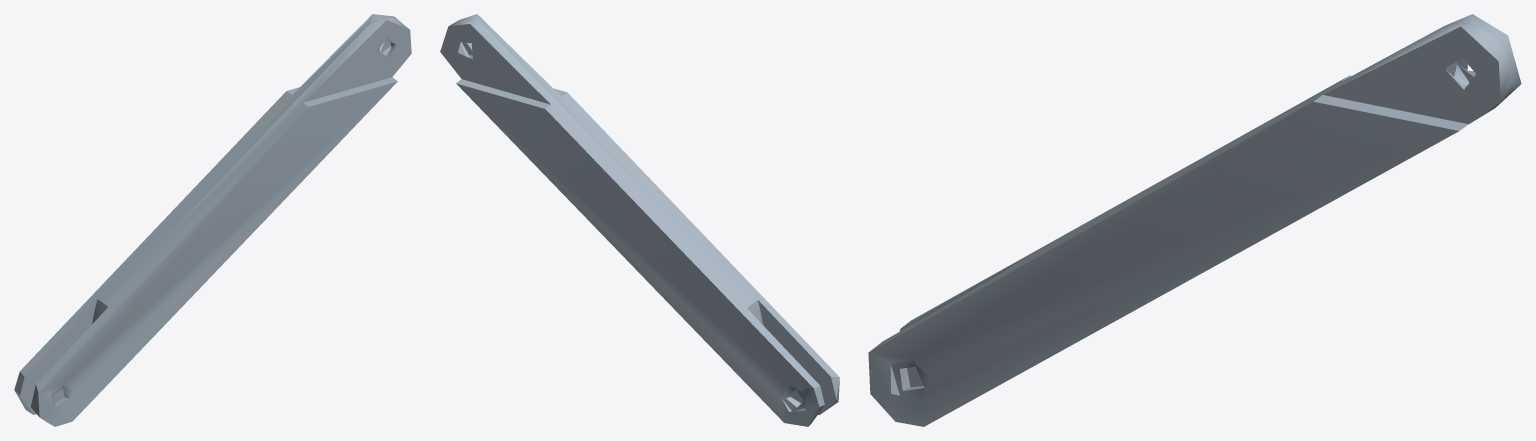
The picture shows the model from 3 angles, left to right: view 1: azimuth 30°, elevation 25°; view 2: azimuth 150°, elevation 25°; view 3: azimuth 330°, elevation 25°; orthographic projection. The views are drawn at different scales.
Visible parts, largest first — view 1: tmp_export_fr_link_3.009; view 2: tmp_export_fr_link_3.009; view 3: tmp_export_fr_link_3.009.
Boxes of the visible parts, box(x1,y1,x2,y2) form: tmp_export_fr_link_3.009: box(14, 14, 411, 426); tmp_export_fr_link_3.009: box(440, 14, 839, 426); tmp_export_fr_link_3.009: box(868, 14, 1521, 426).
Size of the model in its own units: 0.1197 by 0.0125 by 0.0951.
